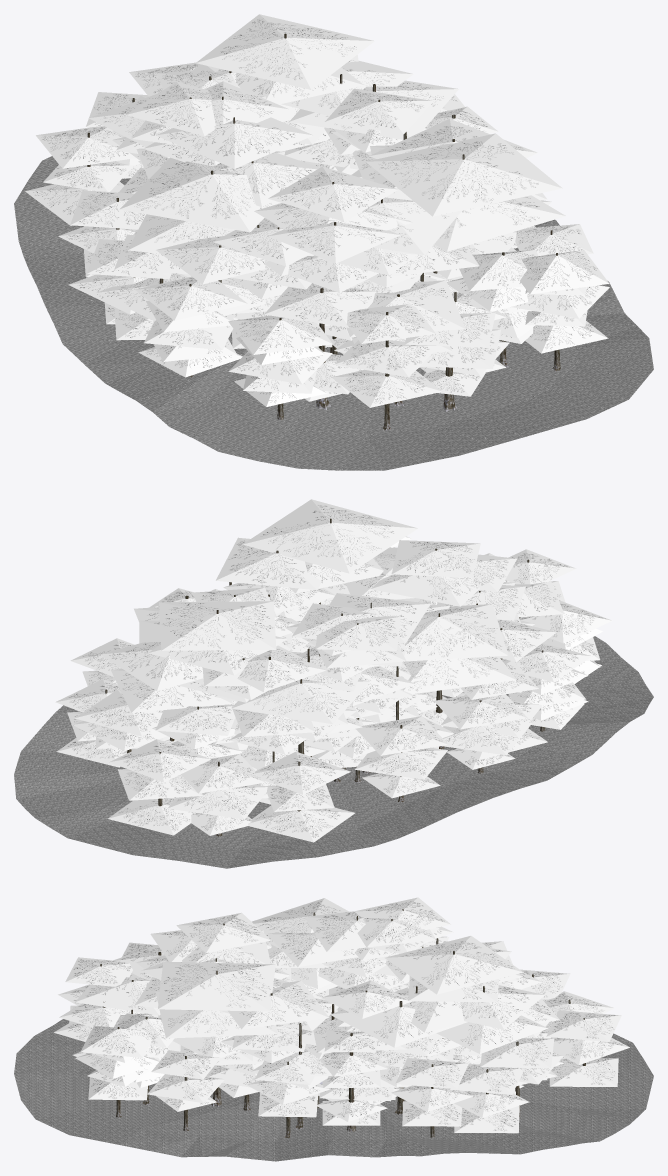
The model's file is tutorial_bake - Copy.dae.
The picture shows the model from 3 angles, top to bottom: view 1: azimuth 30°, elevation 25°; view 2: azimuth 150°, elevation 25°; view 3: azimuth 270°, elevation 25°; orthographic projection. The views are drawn at different scales.
Parts seen in each view (by area): view 1: m0, m31, m0_VC, m30, m1; view 2: m0, m0_VC, m31, m30, m1; view 3: m0, m0_VC, m31, m30, m1.
Boxes of the visible parts, left/top/right/bottom form: m0: left=25, top=14, right=609, bottom=407; m31: left=14, top=156, right=653, bottom=470; m0_VC: left=33, top=18, right=596, bottom=403; m30: left=74, top=178, right=577, bottom=434; m1: left=87, top=33, right=560, bottom=430; m0: left=55, top=499, right=612, bottom=842; m0_VC: left=70, top=505, right=598, bottom=837; m31: left=14, top=636, right=653, bottom=868; m30: left=82, top=694, right=552, bottom=849; m1: left=105, top=518, right=545, bottom=836; m0: left=54, top=897, right=629, bottom=1133; m0_VC: left=71, top=901, right=623, bottom=1130; m31: left=14, top=1019, right=653, bottom=1161; m30: left=80, top=1063, right=592, bottom=1141; m1: left=100, top=909, right=585, bottom=1137.
Size of the model in its own units: 15422 by 5778 by 22147.
